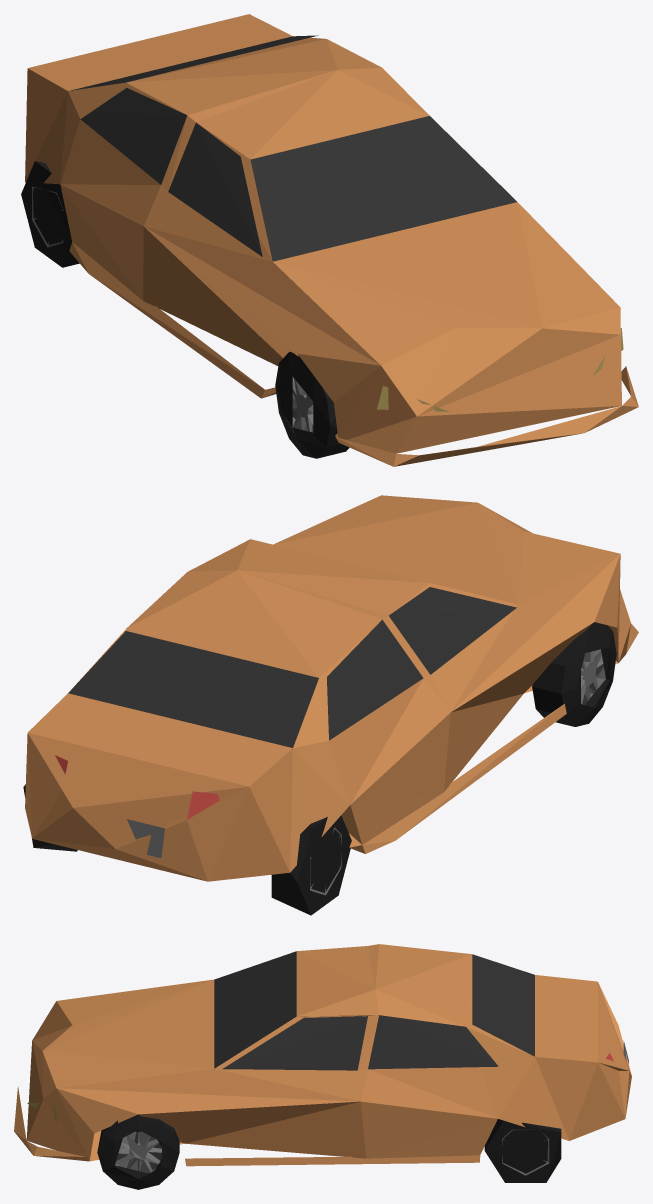
The model's file is sports1.glb.
3 views of the same model, one above another, from view 1: azimuth 30°, elevation 25°; view 2: azimuth 150°, elevation 25°; view 3: azimuth 270°, elevation 25° (orthographic). The views are drawn at different scales.
Visible parts, largest first — view 1: SportsCar, SportsCar_FrontRightWheel, SportsCar_BackWheels; view 2: SportsCar, SportsCar_FrontRightWheel, SportsCar_BackWheels; view 3: SportsCar, SportsCar_FrontLeftWheel, SportsCar_BackWheels.
Boxes of the visible parts, x1,y1,x2,y2 form: SportsCar: (25, 14, 638, 466); SportsCar_FrontRightWheel: (275, 351, 349, 458); SportsCar_BackWheels: (21, 161, 79, 267); SportsCar: (25, 495, 638, 881); SportsCar_FrontRightWheel: (532, 622, 616, 726); SportsCar_BackWheels: (23, 784, 351, 915); SportsCar: (14, 944, 631, 1166); SportsCar_FrontLeftWheel: (97, 1114, 179, 1189); SportsCar_BackWheels: (484, 1119, 561, 1182).
Bounding box in the file's own units: 1.67 × 1.16 × 3.94.
